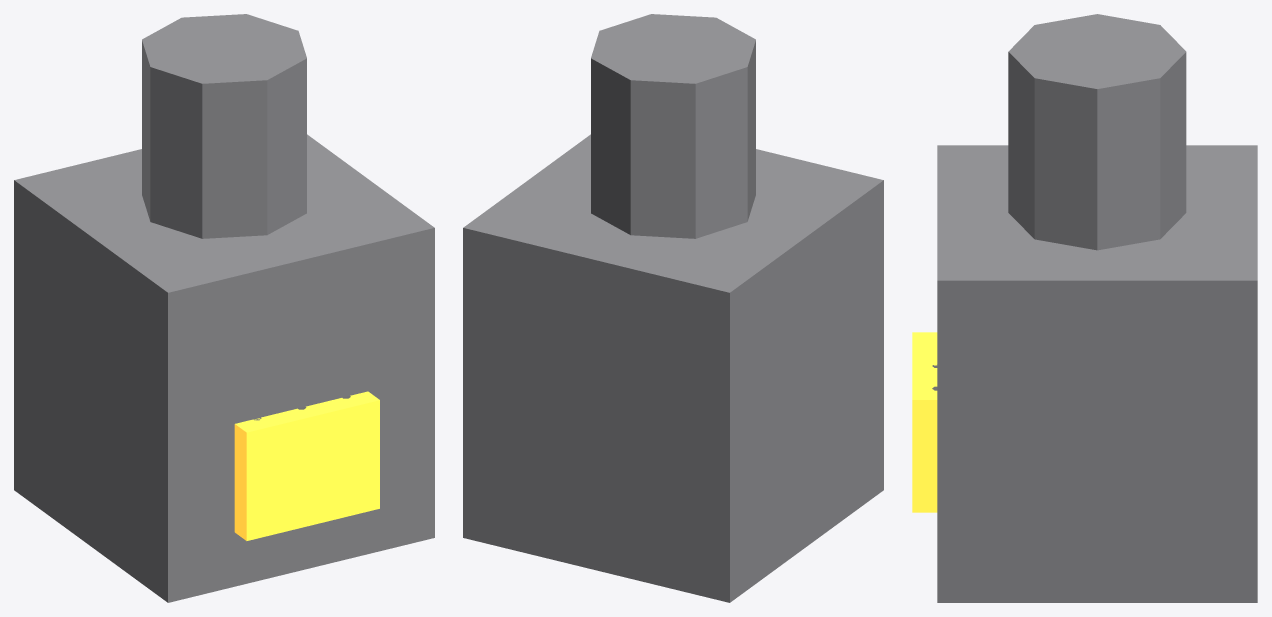
Rendered from furnace.glb.
3 views of the same model, side by side, from view 1: azimuth 30°, elevation 25°; view 2: azimuth 150°, elevation 25°; view 3: azimuth 270°, elevation 25° (orthographic). The views are drawn at different scales.
Visible parts, largest first — view 1: FurnaceBase, Chimney, HearthFire; view 2: FurnaceBase, Chimney; view 3: FurnaceBase, Chimney, HearthFire.
Part boxes in pixels (bbox=[...]): FurnaceBase: bbox=[14, 134, 434, 602]; Chimney: bbox=[142, 14, 306, 238]; HearthFire: bbox=[234, 391, 379, 540]; FurnaceBase: bbox=[463, 134, 883, 602]; Chimney: bbox=[591, 14, 755, 238]; FurnaceBase: bbox=[937, 145, 1257, 602]; Chimney: bbox=[1008, 14, 1186, 250]; HearthFire: bbox=[912, 332, 937, 512].
Size of the model in its own units: 0.9 by 1.5 by 0.97.
